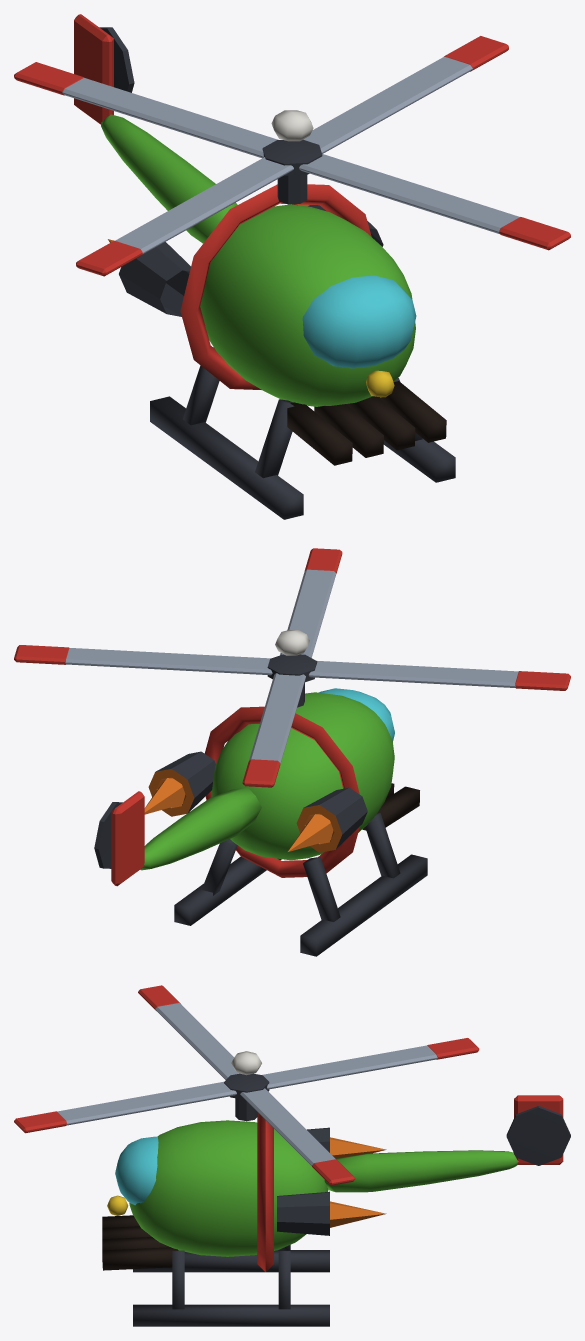
The picture shows the model from 3 angles, top to bottom: view 1: azimuth 30°, elevation 25°; view 2: azimuth 150°, elevation 25°; view 3: azimuth 270°, elevation 25°; orthographic projection. The views are drawn at different scales.
Visible parts, largest first — view 1: heli_0_base, heli_1_torreta; view 2: heli_0_base, heli_1_torreta; view 3: heli_0_base, heli_1_torreta.
Boxes of the visible parts, left/top/right/bottom form: heli_0_base: left=74, top=14, right=455, bottom=519; heli_1_torreta: left=14, top=36, right=570, bottom=276; heli_0_base: left=94, top=688, right=427, bottom=956; heli_1_torreta: left=14, top=548, right=570, bottom=787; heli_0_base: left=102, top=1095, right=570, bottom=1326; heli_1_torreta: left=14, top=985, right=479, bottom=1185.
Bounding box in the file's own units: 1.23 × 0.7061 × 1.47.
